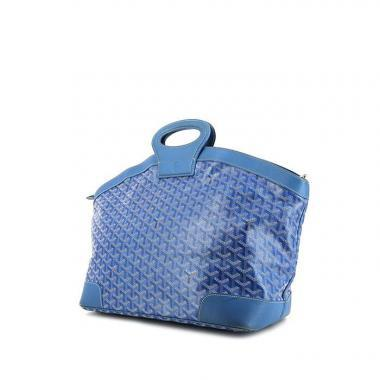GOYARD: (87, 161, 307, 323)
